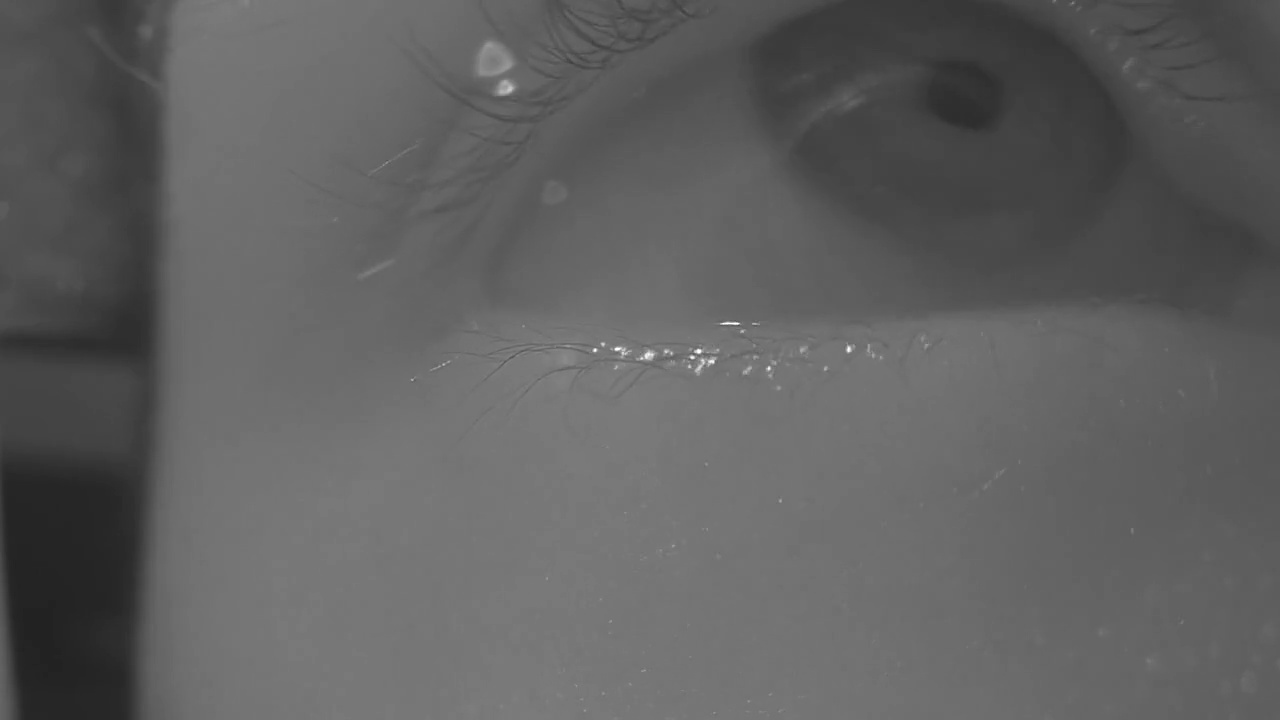pupil: (926, 61, 1003, 131)
